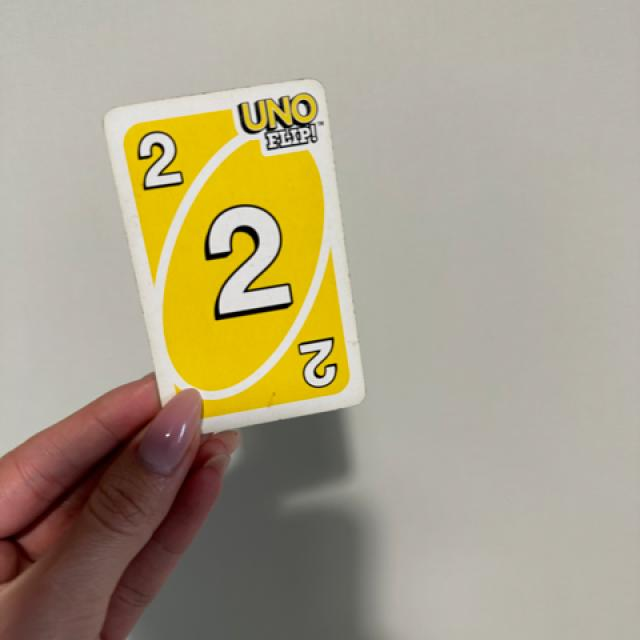lyellow-2: (120, 117, 195, 202)
